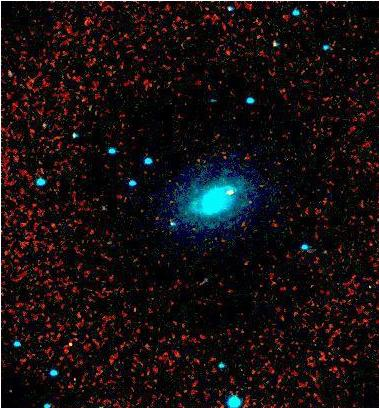star: (215, 176, 245, 206)
